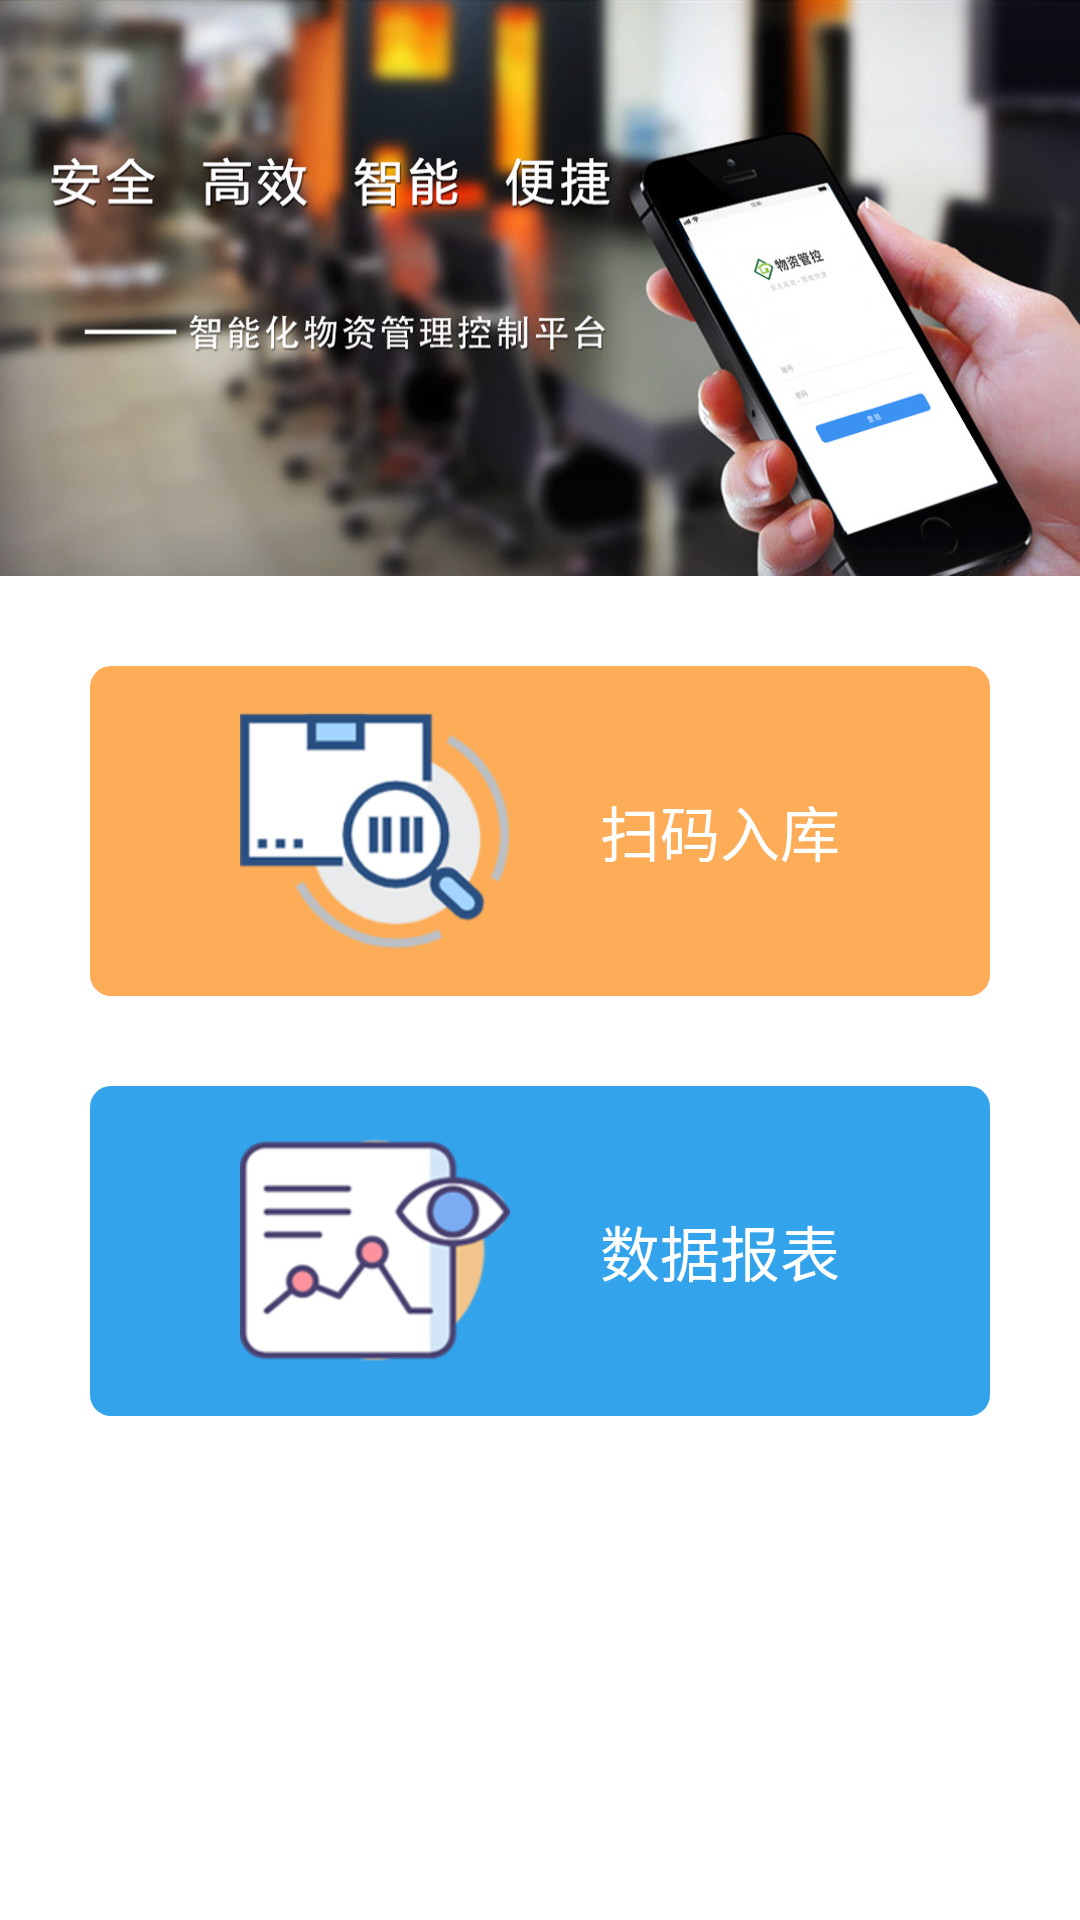

Where to tap for icons on this 1080x1920 app screen, as [x,y]:
scan: [375,830]
